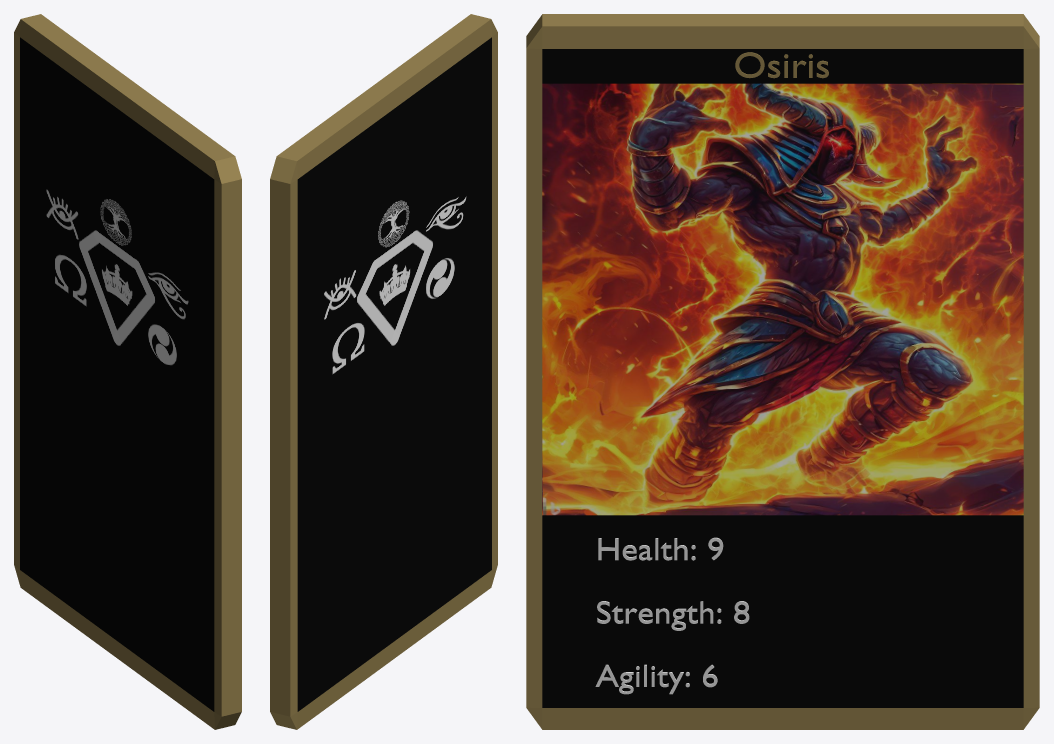
The model's file is Osiris.fbx.
The picture shows the model from 3 angles, left to right: view 1: azimuth 30°, elevation 25°; view 2: azimuth 150°, elevation 25°; view 3: azimuth 270°, elevation 25°; orthographic projection. The views are drawn at different scales.
Visible parts, largest first — view 1: Osiris; view 2: Osiris; view 3: Osiris.
Boxes of the visible parts, left/top/right/bottom form: Osiris: left=14, top=14, right=241, bottom=729; Osiris: left=270, top=14, right=497, bottom=729; Osiris: left=526, top=14, right=1039, bottom=729.
Bounding box in the file's own units: 20.45 × 482 × 319.
Materials: 5 (2 with a texture image).
